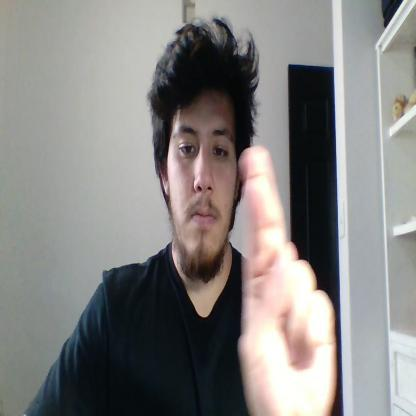R: (237, 145, 337, 415)
